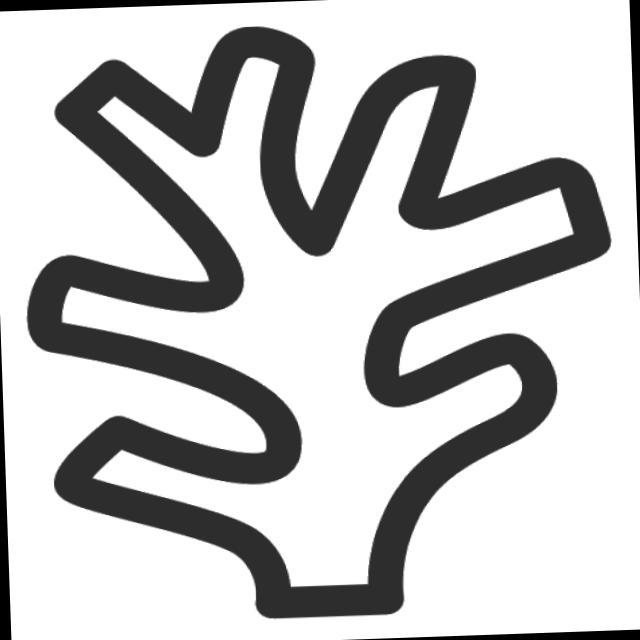coral: (10, 10, 632, 639)
